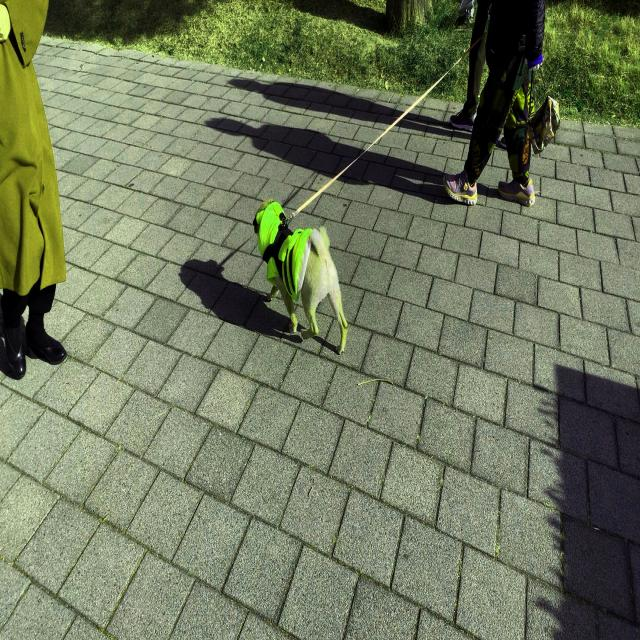Leashed_Dog: (253, 27, 511, 358)
